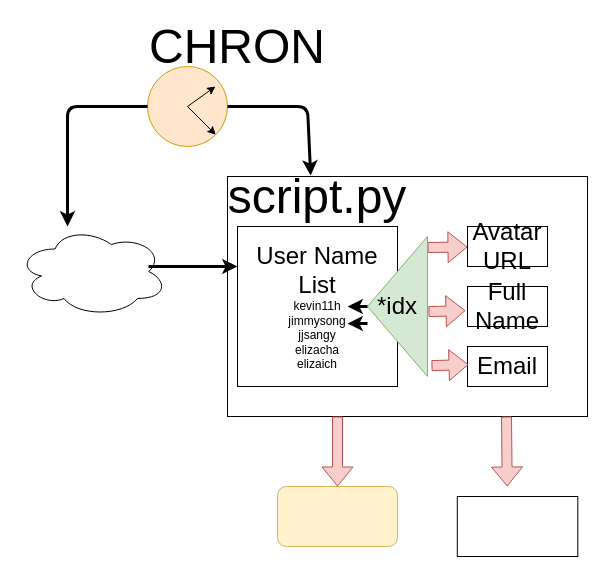
This 605x574 diagram has some shape labels left out. The centre of each missing label's shape, as x and y in pixels:
"A,B,C,D\n.CSV" belongs at (517,526).
"GH DATA SOURCE API MATTHEW 18:20" belongs at (92,271).
"Terminal Output" belongs at (337,516).
